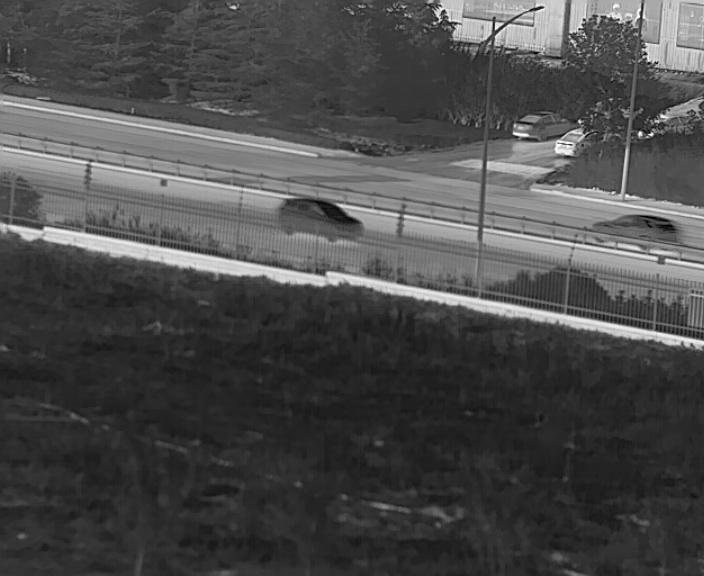vehicle: (274, 197, 363, 240), (590, 213, 678, 246), (513, 109, 565, 140), (553, 128, 591, 156)
